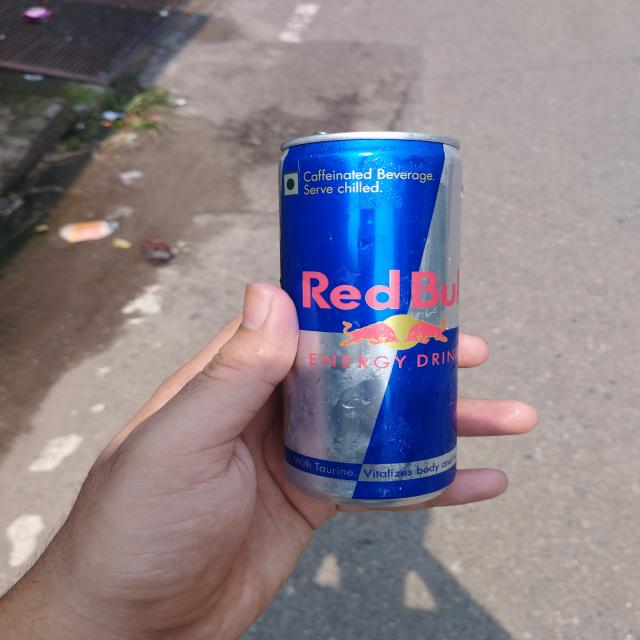aluminum: (278, 132, 462, 506)
